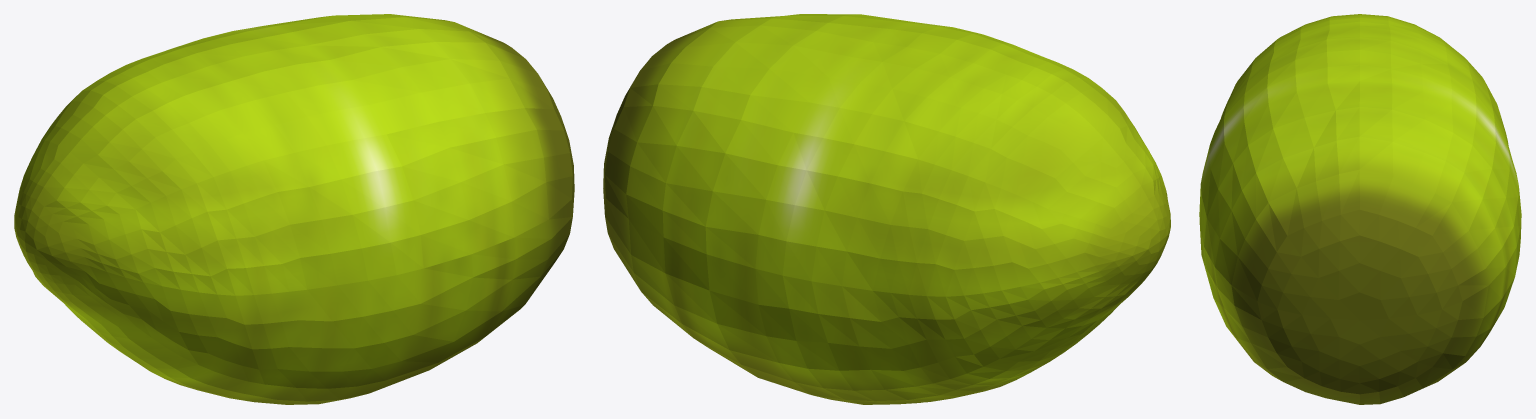
File: worm3.obj
The picture shows the model from 3 angles, left to right: view 1: azimuth 30°, elevation 25°; view 2: azimuth 150°, elevation 25°; view 3: azimuth 270°, elevation 25°; orthographic projection. The views are drawn at different scales.
Visible parts, largest first — view 1: ColobotMesh_1_ColobotMesh_; view 2: ColobotMesh_1_ColobotMesh_; view 3: ColobotMesh_1_ColobotMesh_.
Part boxes in pixels (left/top/right/bottom): ColobotMesh_1_ColobotMesh_: left=14, top=14, right=574, bottom=404; ColobotMesh_1_ColobotMesh_: left=603, top=14, right=1170, bottom=404; ColobotMesh_1_ColobotMesh_: left=1199, top=14, right=1521, bottom=404.
Size of the model in its own units: 2.97 by 1.91 by 1.9.
